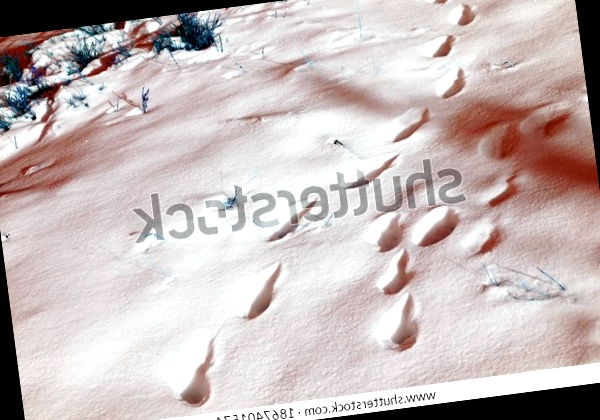lapin: (12, 128, 128, 190), (395, 318, 459, 397), (281, 191, 361, 242), (321, 252, 381, 314), (189, 307, 242, 368), (192, 156, 258, 200), (139, 221, 194, 265), (93, 240, 141, 290), (64, 190, 116, 235), (155, 118, 213, 156), (196, 217, 240, 266), (191, 259, 235, 307), (112, 81, 151, 125), (123, 50, 163, 82), (96, 17, 129, 51)
